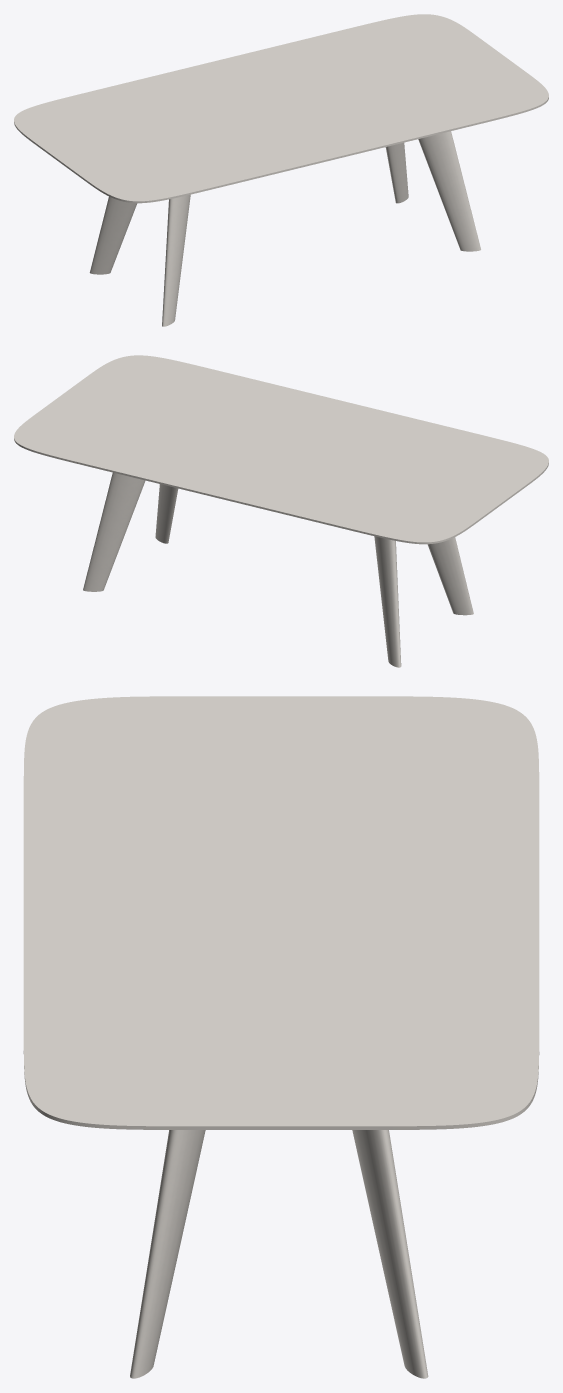
File: purewhite_softrecta_facet_ferdinantwalnut.glb
3 renders of one model, top to bottom at view 1: azimuth 30°, elevation 25°; view 2: azimuth 150°, elevation 25°; view 3: azimuth 270°, elevation 25°, orthographic. The views are drawn at different scales.
Visible parts, largest first — view 1: facet_softrecta, ferdinandwalnut; view 2: facet_softrecta, ferdinandwalnut; view 3: facet_softrecta, ferdinandwalnut.
Boxes of the visible parts, x1,y1,x2,y2 form: facet_softrecta: (14,14,548,203); ferdinandwalnut: (89,131,480,326); facet_softrecta: (14,355,548,544); ferdinandwalnut: (83,472,473,667); facet_softrecta: (23,696,539,1129); ferdinandwalnut: (130,1130,428,1378).
Size of the model in its own units: 7.5 by 2.51 by 3.8.
1 material, 1 textured.
